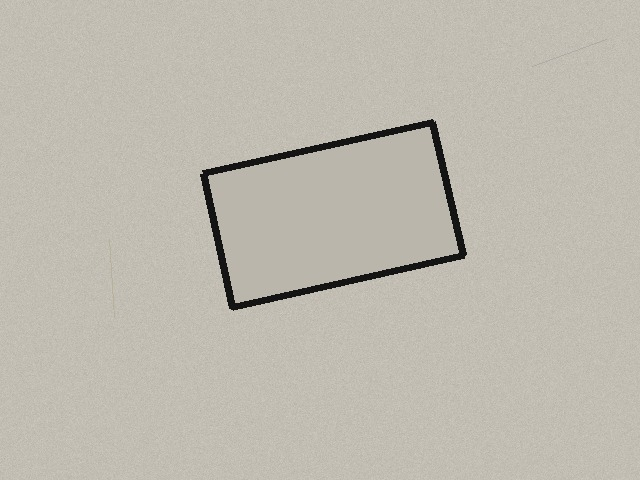parking_area: (203, 122, 463, 307)
